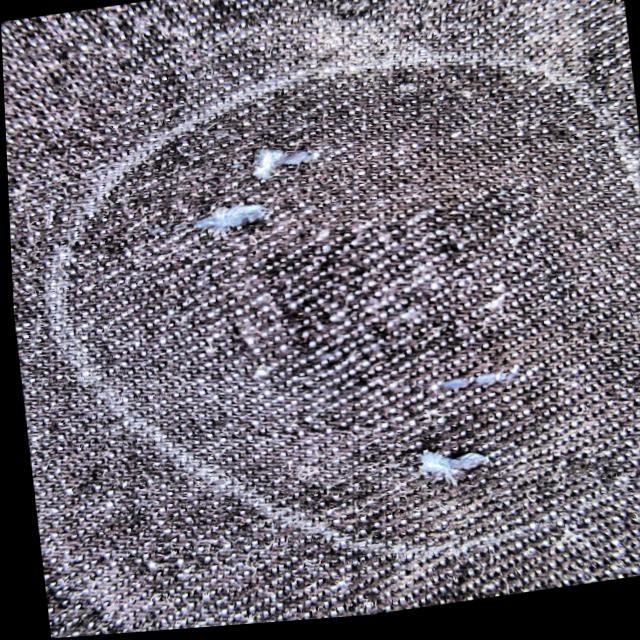Stitch: (395, 424, 524, 506), (167, 180, 289, 260), (225, 125, 346, 197), (415, 345, 531, 415), (405, 430, 507, 500), (238, 131, 338, 190)
